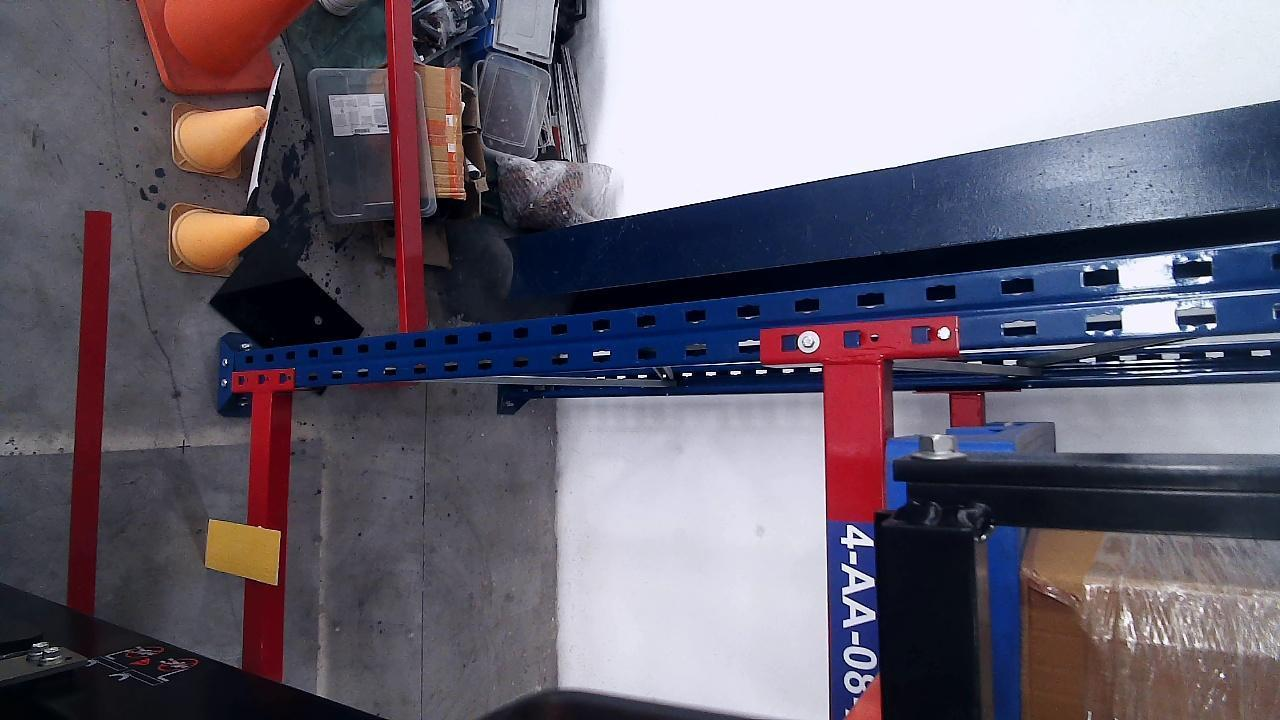red_line: (70, 211, 112, 612)
